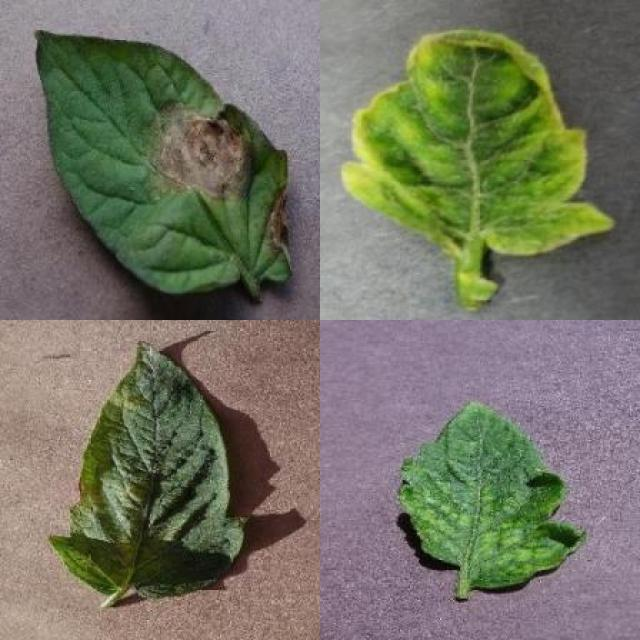Late Blight: (34, 27, 295, 294)
Mosaic Virus: (398, 398, 585, 592)
Spider Mites: (47, 340, 249, 600)
Yellow Leaf Curl Virus: (340, 27, 617, 257)
